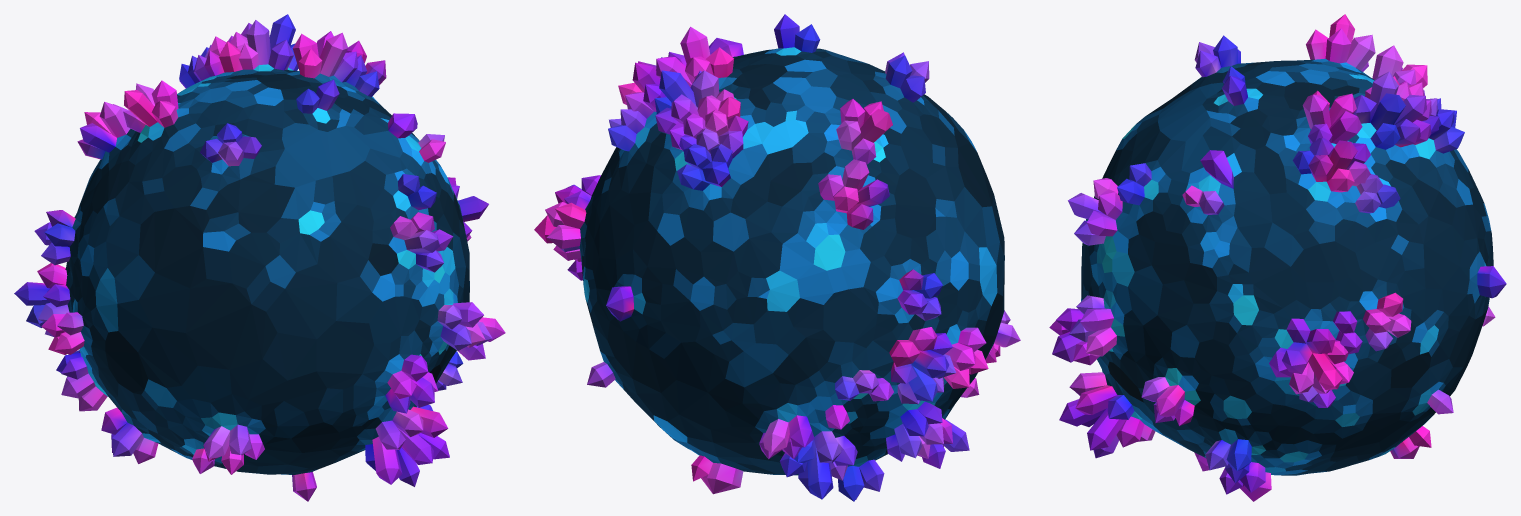
The model's file is Crystal_planet_21.fbx.
The picture shows the model from 3 angles, left to right: view 1: azimuth 30°, elevation 25°; view 2: azimuth 150°, elevation 25°; view 3: azimuth 270°, elevation 25°; orthographic projection. The views are drawn at different scales.
Visible parts, largest first — view 1: file6; view 2: file6; view 3: file6.
Boxes of the visible parts, bbox=[...] form: file6: bbox=[14, 14, 505, 501]; file6: bbox=[534, 14, 1020, 501]; file6: bbox=[1049, 14, 1506, 501].
Bounding box in the file's own units: 2.42 × 2.24 × 2.21.
